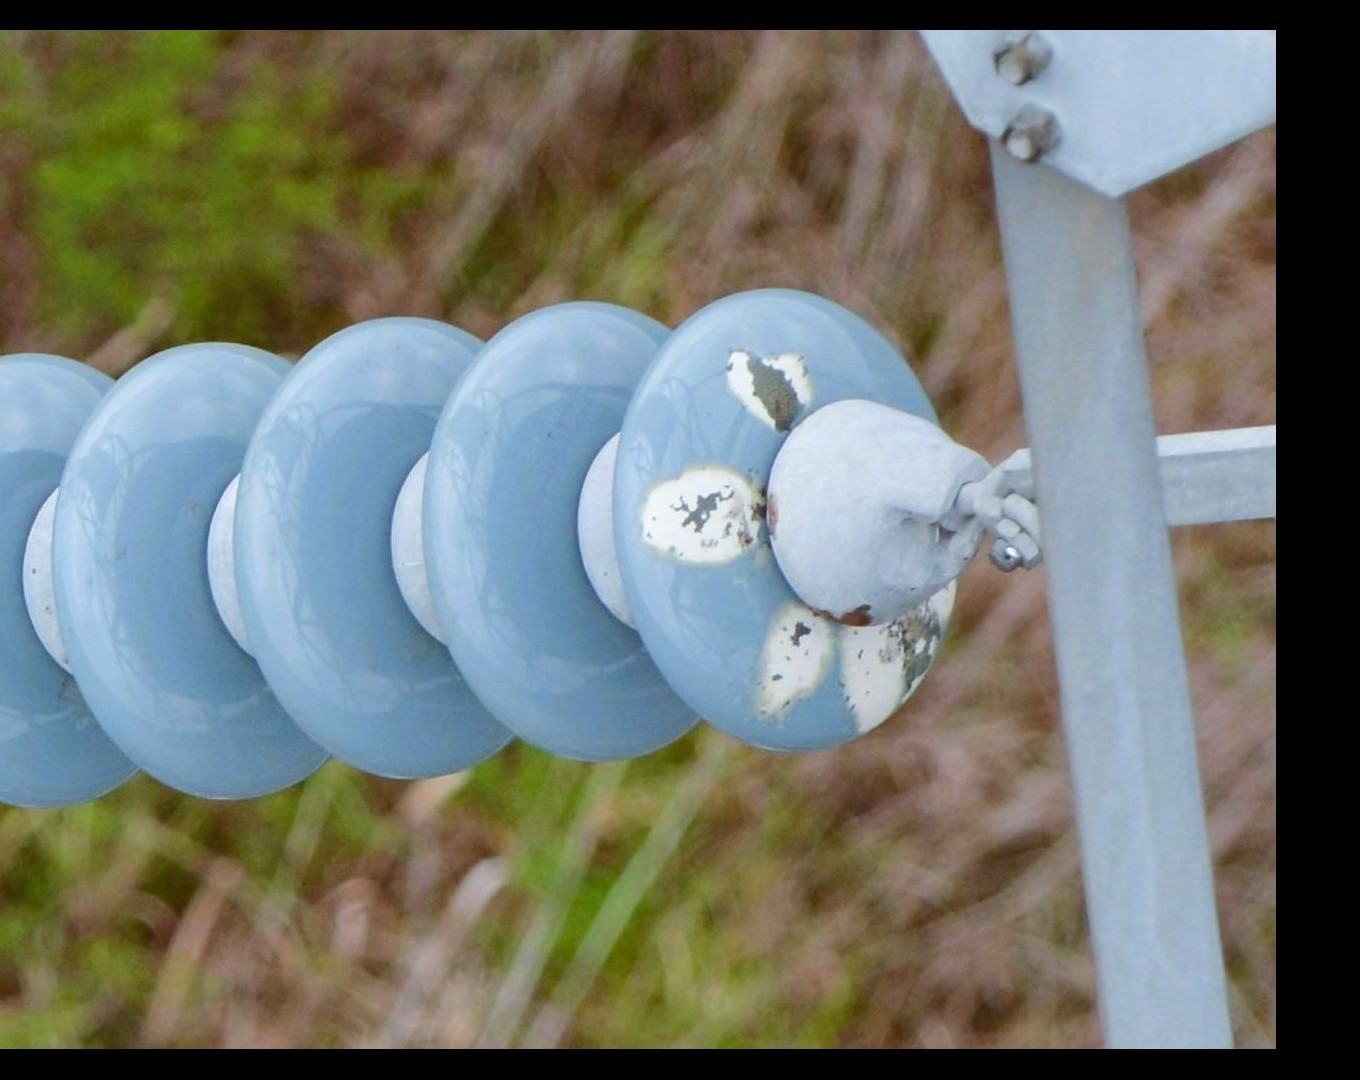Insulator flashover: (613, 283, 979, 767)
